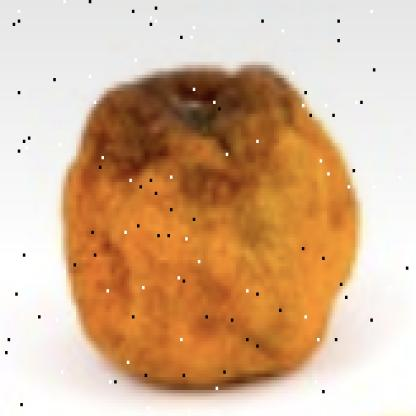rotten: (64, 60, 357, 391)
